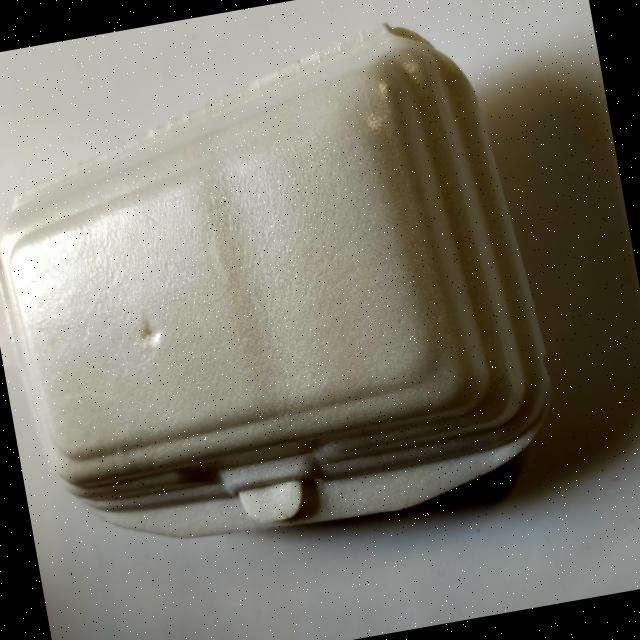styrofoam: (0, 2, 571, 574)
